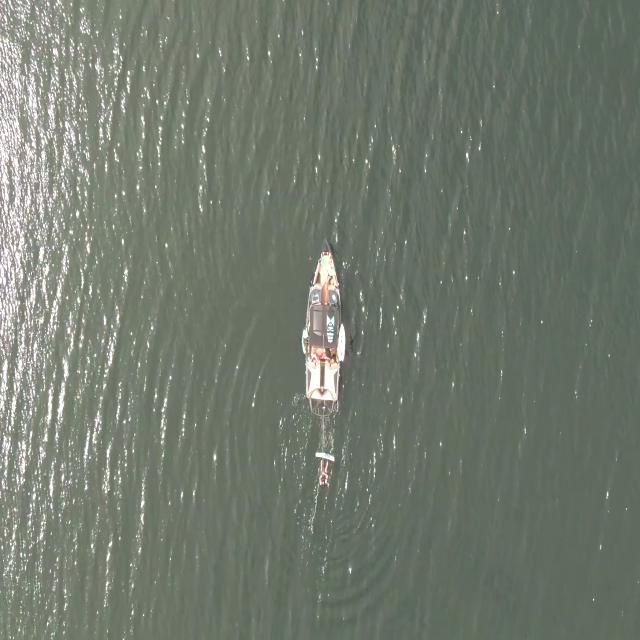ship: (301, 242, 346, 420), (338, 321, 347, 365)
